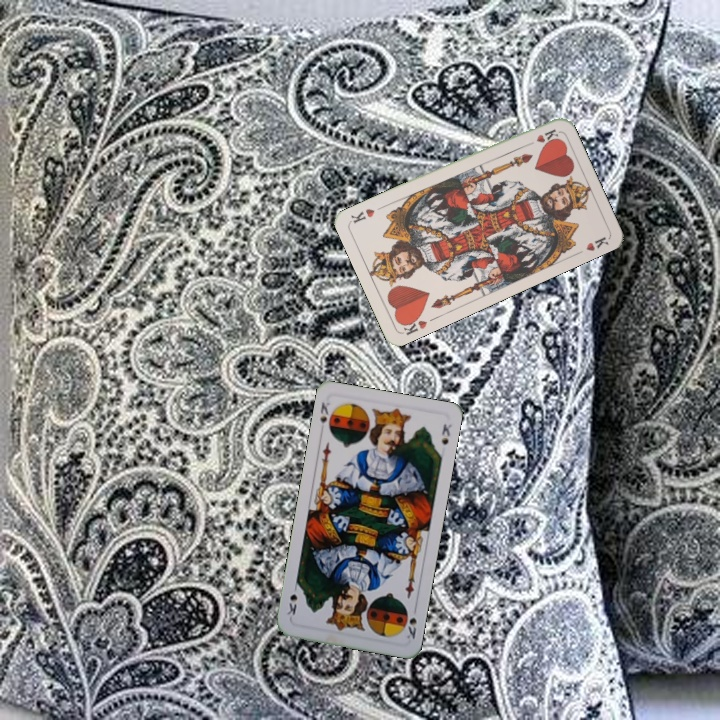HK: (521, 125, 560, 150), (397, 311, 430, 338)
SK: (403, 602, 419, 642), (316, 398, 333, 427)
